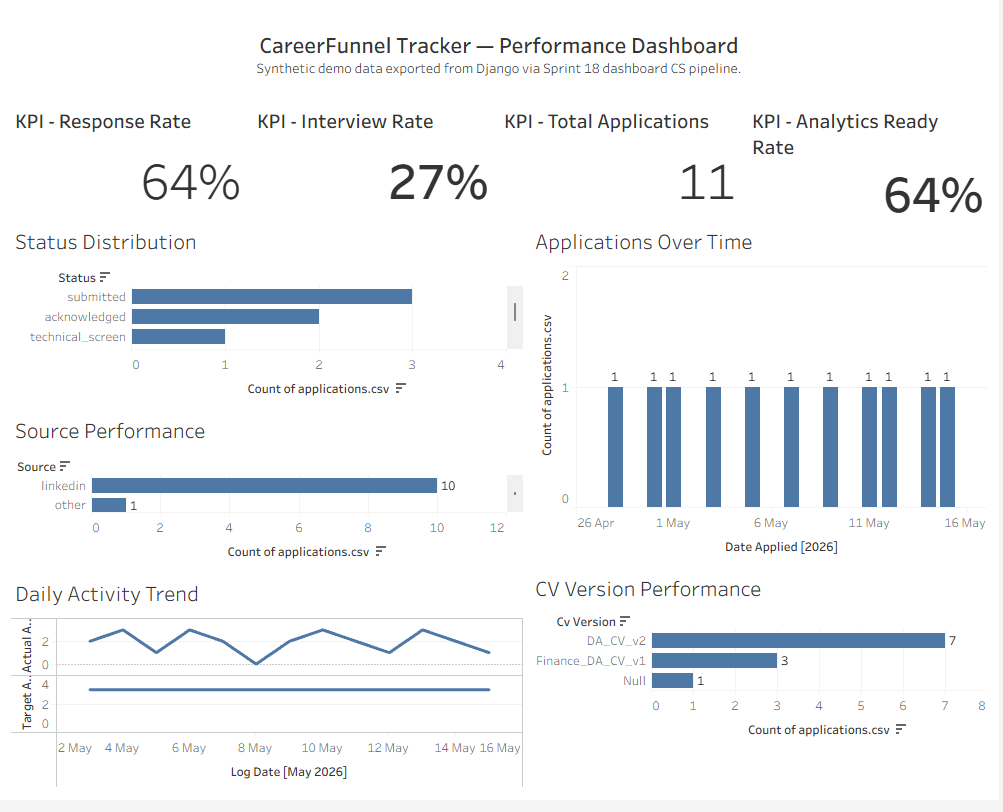

Layout of this report page (visuals, bound fields, positions):
{"tool":"tableau","page":{"name":"CareerFunnel Performance Dashboard","canvas":[1000,800],"ordinal":0},"visuals":[{"type":"title","box":[8,8,984,91]},{"type":"worksheet","title":"KPI - Response Rate","mark":"Automatic","box":[8,99,242,120]},{"type":"worksheet","title":"KPI - Interview Rate","mark":"Automatic","box":[250,99,247.3,120]},{"type":"worksheet","title":"KPI - Total Applications","mark":"Automatic","box":[497.3,99,247.3,120]},{"type":"worksheet","title":"KPI - Analytics Ready Rate","mark":"Automatic","box":[744.7,99,247.3,120]},{"type":"worksheet","title":"Status Distribution","mark":"Bar","rows":["status"],"cols":["applications.csv_982CC9DD10CB4471A3DE593B34F6F286"],"box":[8,219,520,189]},{"type":"worksheet","title":"Applications Over Time","mark":"Bar","rows":["applications.csv_982CC9DD10CB4471A3DE593B34F6F286"],"cols":["date_applied"],"box":[528,219,464,347.2]},{"type":"worksheet","title":"Source Performance","mark":"Bar","rows":["source"],"cols":["applications.csv_982CC9DD10CB4471A3DE593B34F6F286"],"box":[8,408,520,163]},{"type":"worksheet","title":"CV Version Performance","mark":"Bar","rows":["cv_version"],"cols":["applications.csv_982CC9DD10CB4471A3DE593B34F6F286"],"box":[528,566.2,464,225.8]},{"type":"worksheet","title":"Daily Activity Trend","mark":"Line","rows":["actual_applications","target_applications"],"cols":["log_date"],"box":[8,571,520,221]}]}

Visuals, with their boxes in screenshot pixels (x1, y1, x2, y2), scaled from the page's 1000x800 canvas onto the 1003x812 screenshot:
title: pyautogui.locateOnScreen(8, 8, 995, 100)
"KPI - Response Rate" worksheet: pyautogui.locateOnScreen(8, 100, 251, 222)
"KPI - Interview Rate" worksheet: pyautogui.locateOnScreen(251, 100, 499, 222)
"KPI - Total Applications" worksheet: pyautogui.locateOnScreen(499, 100, 747, 222)
"KPI - Analytics Ready Rate" worksheet: pyautogui.locateOnScreen(747, 100, 995, 222)
"Status Distribution" worksheet (Bar marks): pyautogui.locateOnScreen(8, 222, 530, 414)
"Applications Over Time" worksheet (Bar marks): pyautogui.locateOnScreen(530, 222, 995, 575)
"Source Performance" worksheet (Bar marks): pyautogui.locateOnScreen(8, 414, 530, 580)
"CV Version Performance" worksheet (Bar marks): pyautogui.locateOnScreen(530, 575, 995, 804)
"Daily Activity Trend" worksheet (Line marks): pyautogui.locateOnScreen(8, 580, 530, 804)
